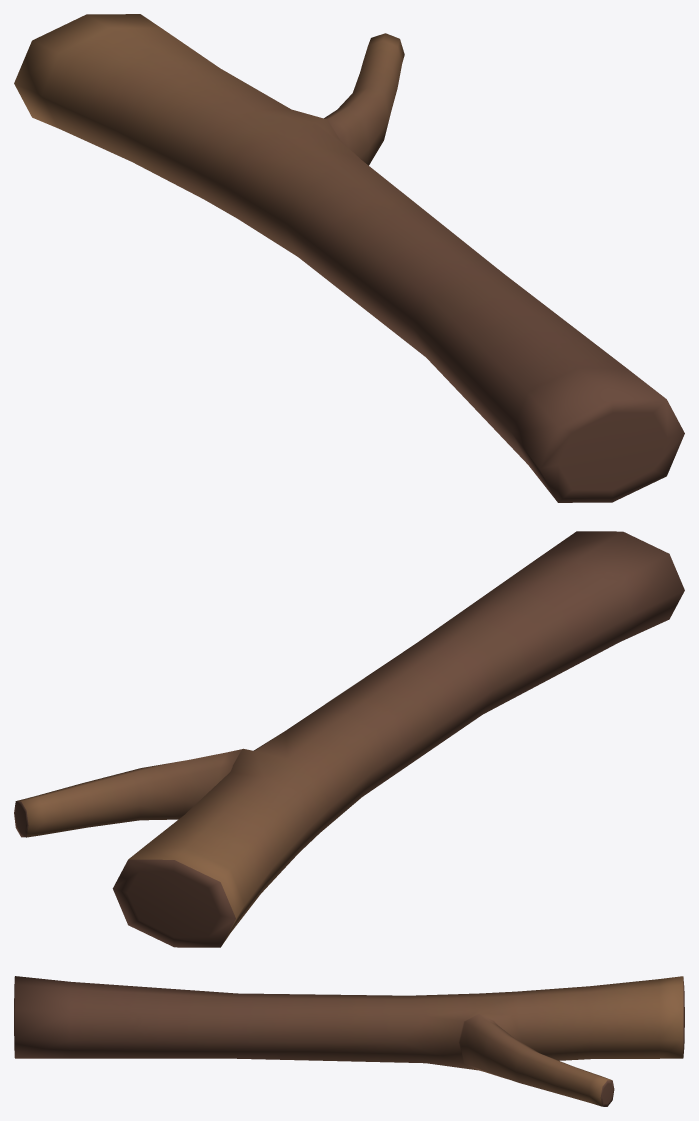
File: Msh_Stick_UPDATE.fbx
3 views of the same model, one above another, from view 1: azimuth 30°, elevation 25°; view 2: azimuth 150°, elevation 25°; view 3: azimuth 270°, elevation 25° (orthographic). The views are drawn at different scales.
Parts seen in each view (by area): view 1: Msh_Stick; view 2: Msh_Stick; view 3: Msh_Stick.
Boxes of the visible parts, left/top/right/bottom form: Msh_Stick: left=14, top=14, right=684, bottom=502; Msh_Stick: left=14, top=531, right=684, bottom=947; Msh_Stick: left=14, top=976, right=684, bottom=1106.
Bounding box in the file's own units: 119 × 35.72 × 333.
